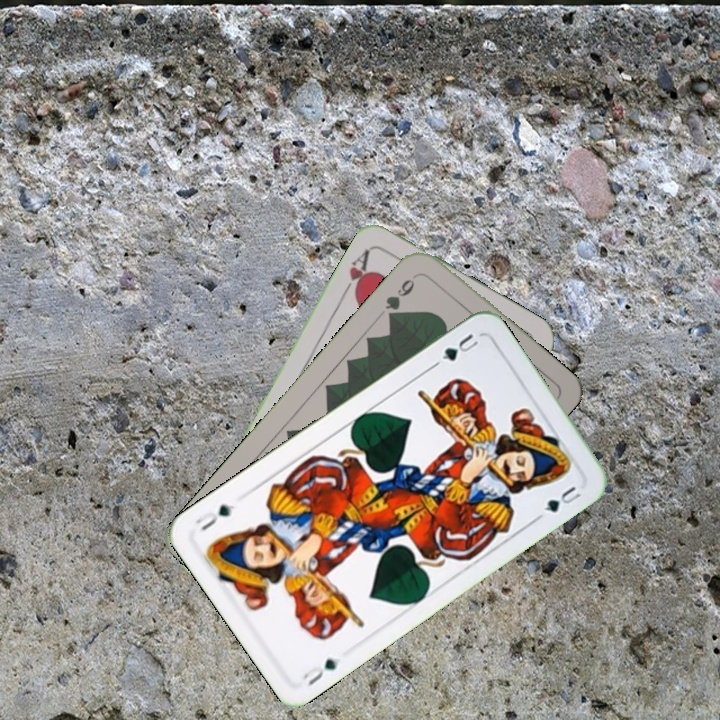G9: (381, 270, 421, 323)
GU: (430, 329, 481, 369), (298, 653, 343, 688)
HA: (338, 245, 373, 300)
